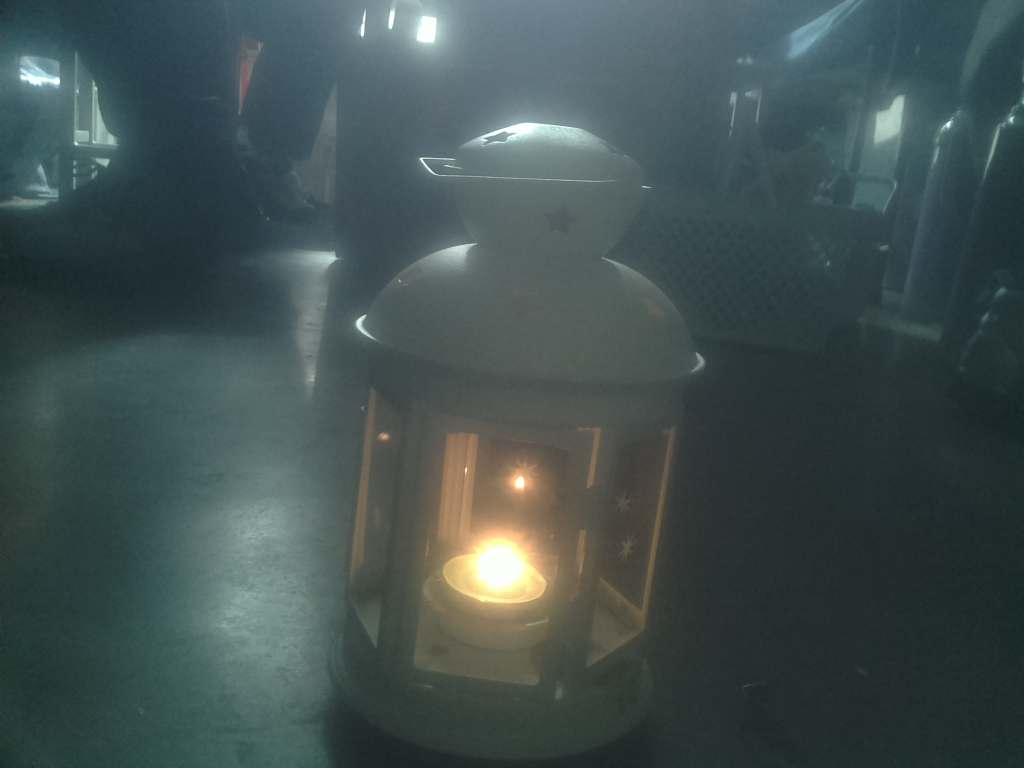fire: (441, 521, 556, 631)
